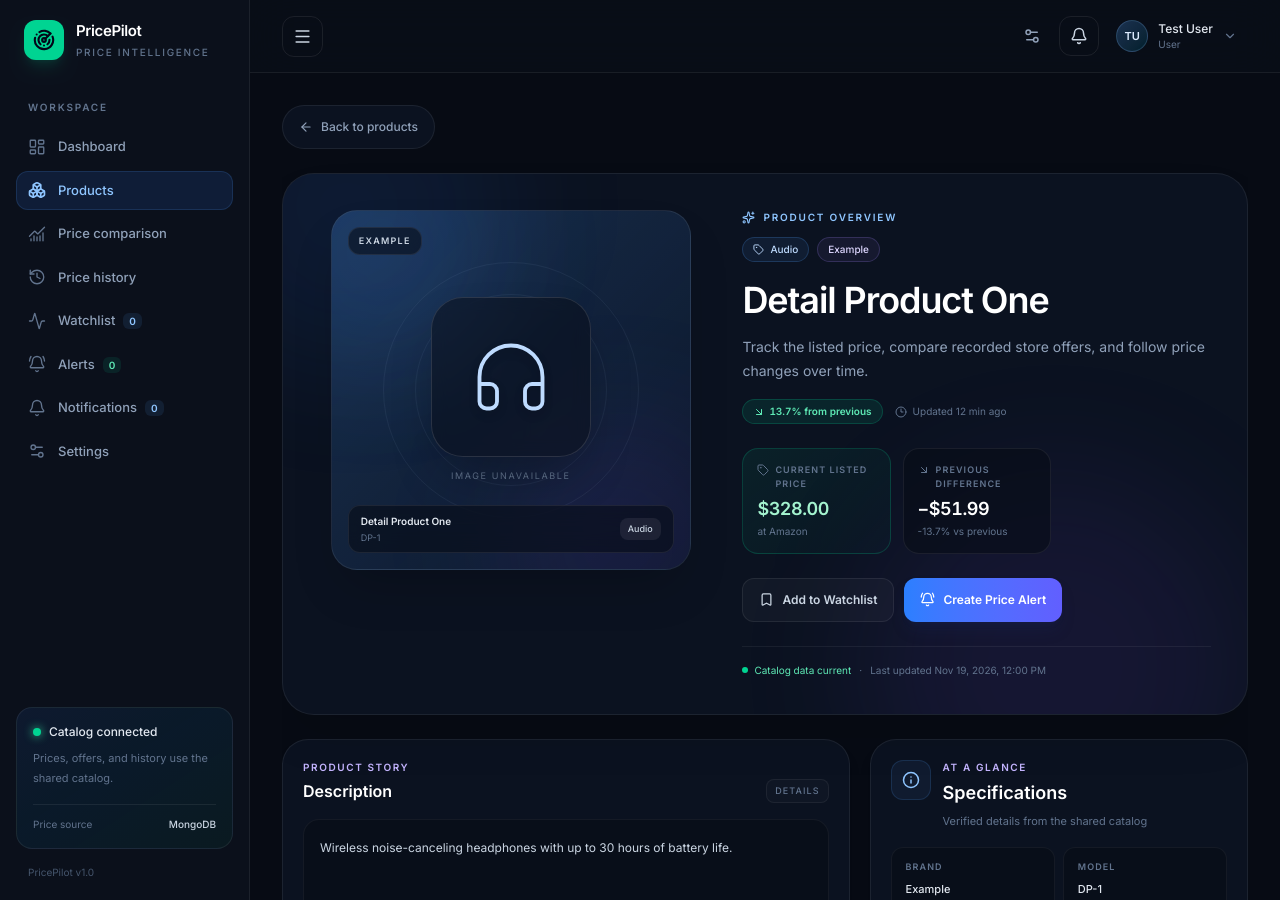
Product Detail image and description layout › preserves watchlist and price alert actions
Expected: the heading "Detail Product One" is shown, [742,278,1049,322]
Click the button "Add to Watchlist" at coordinates (818, 600), box [742,578,894,622]
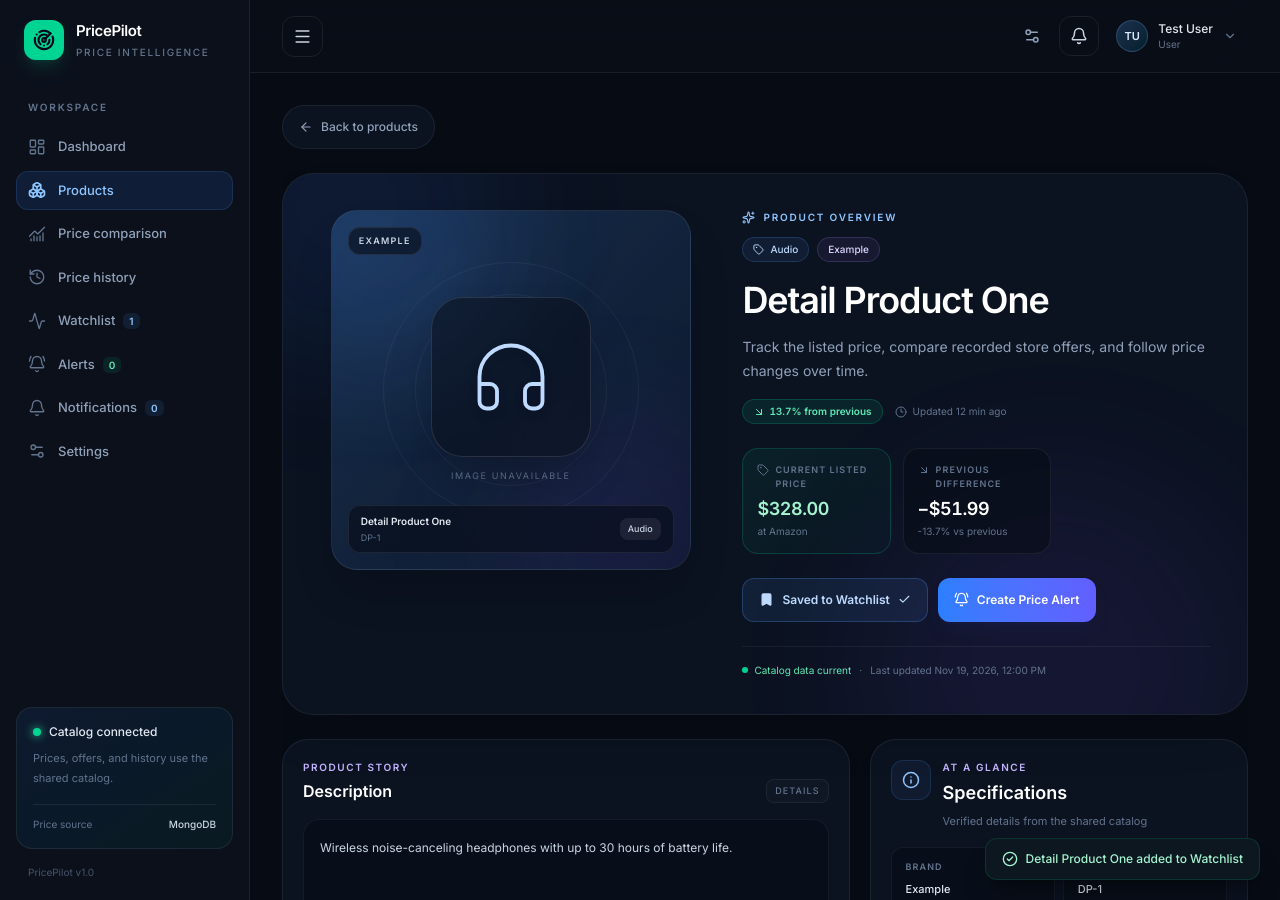
Result: the button "Saved to Watchlist" is pressed at [742,578,928,622]
Click the button "Create Price Alert" at coordinates (1017, 600), box [938,578,1096,622]
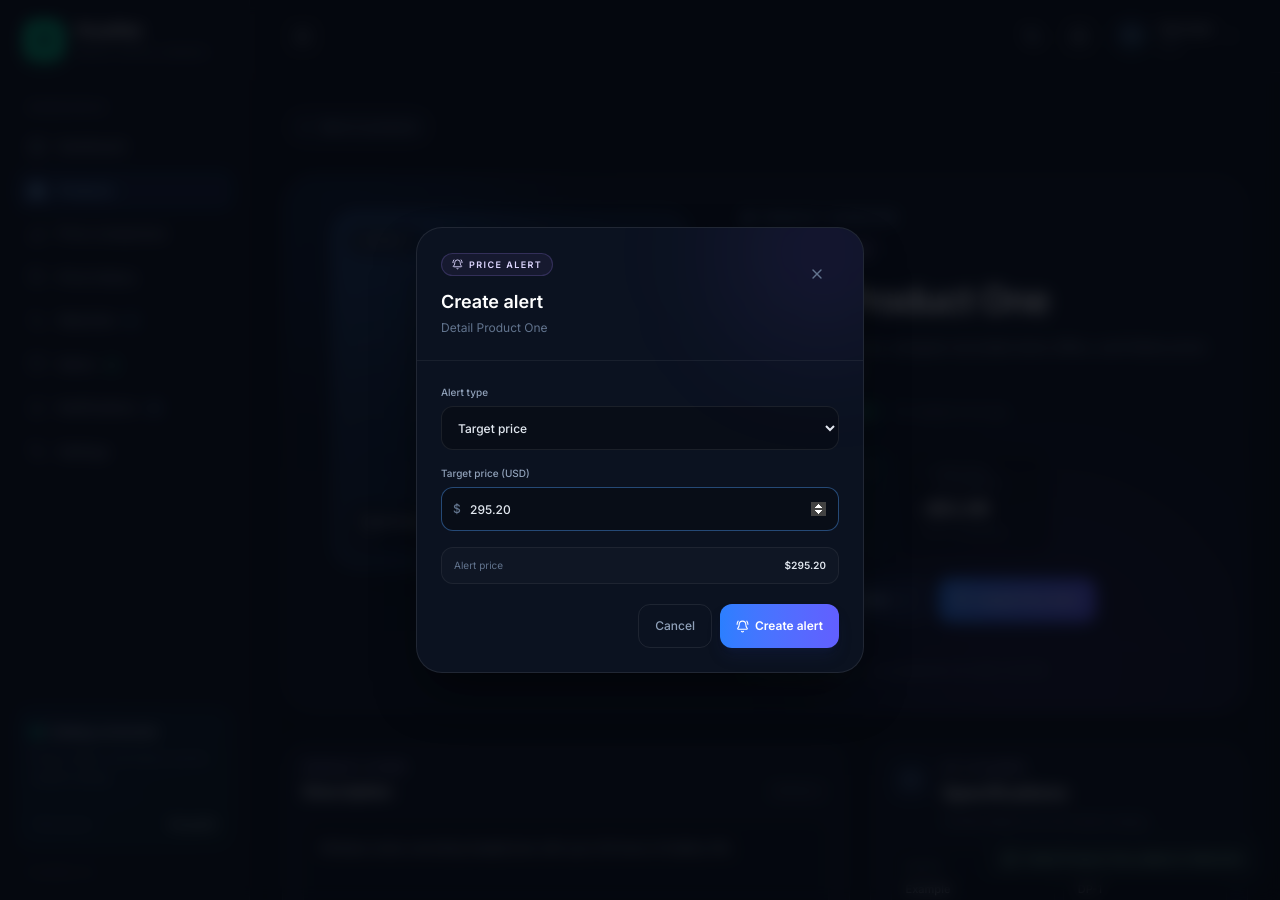
Replace the text in the number field labelled "Target price (USD) $" with "250" at coordinates (640, 509), box [441,487,839,531]
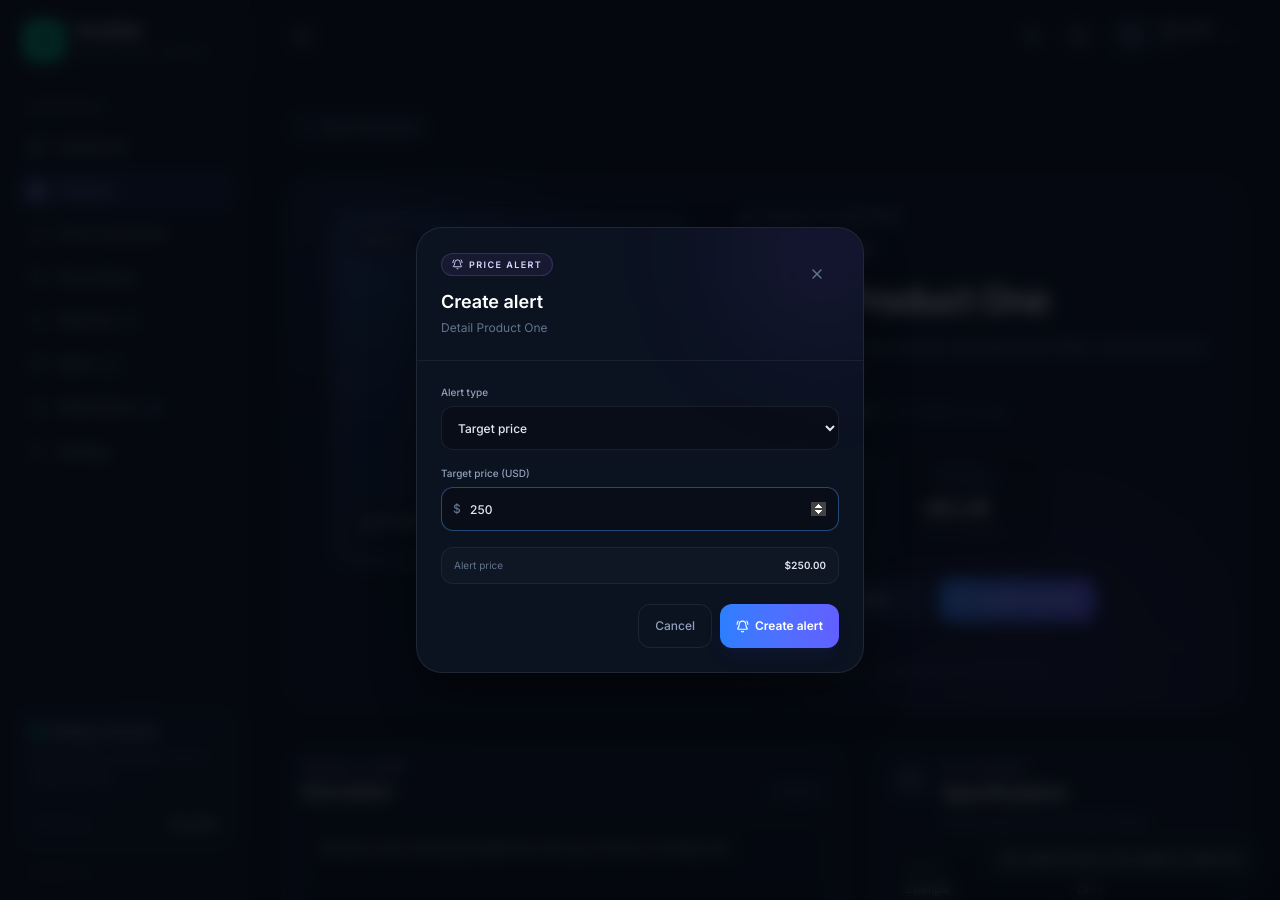
Click the button "Create alert" at coordinates (780, 626), box [720,604,839,648]
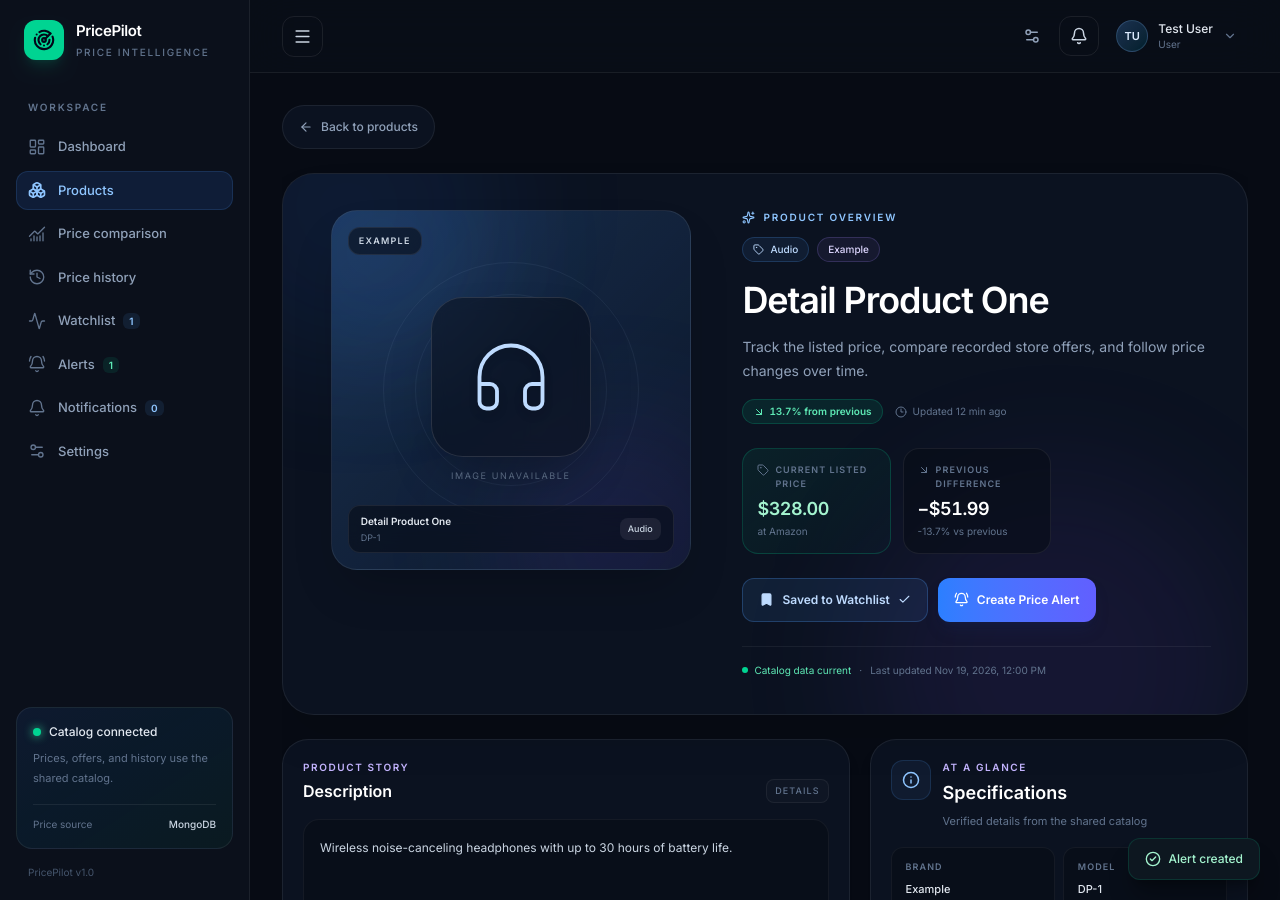
Result: the dialog is gone
